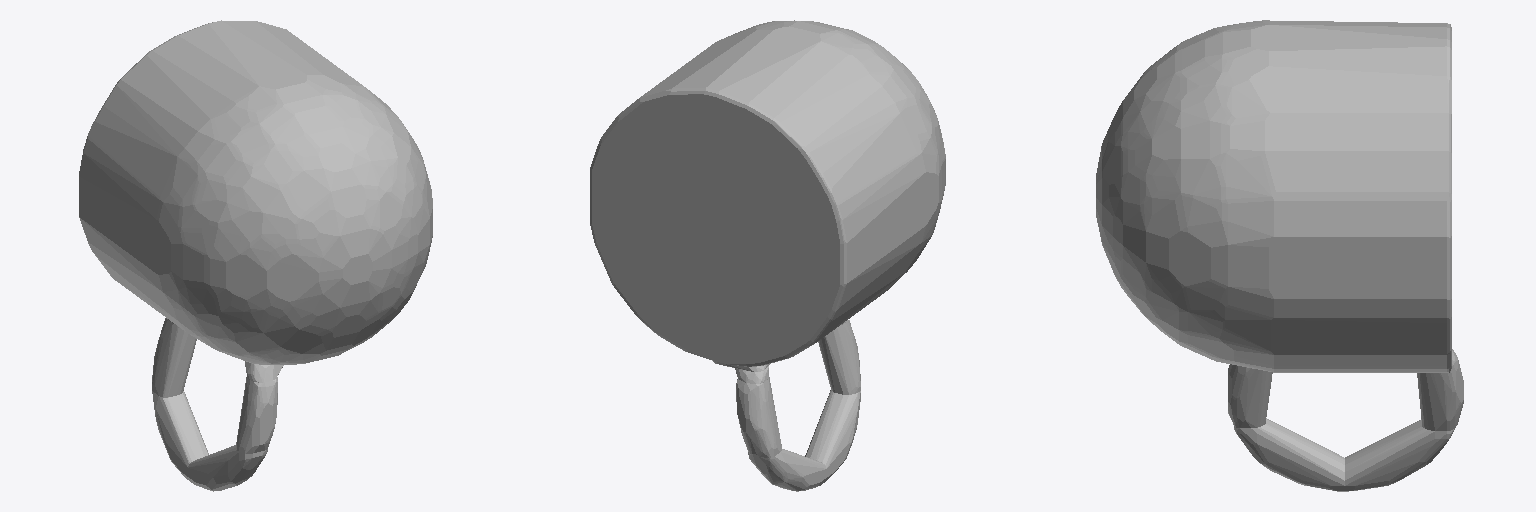
URDF robot description (root):
<robot name="root">
  <link name="link_coacd_convex_piece_0">
    <inertial>
      <origin xyz="0 0 0" rpy="0 0 0"/>
      <inertia ixx="9.13E-02" ixy="-3.37E-04" ixz="-9.77E-04" iyy="8.23E-02" iyz="-1.28E-02" izz="8.85E-02"/>
    </inertial>
    <visual>
      <origin xyz="0 0 0" rpy="0 0 0"/>
      <geometry>
        <mesh filename="coacd_convex_piece_0.obj" scale="1.0000E+00 1.0000E+00 1.0000E+00"/>
      </geometry>
      <material name="">
        <color rgba="7.50E-01 7.50E-01 7.50E-01 1"/>
      </material>
    </visual>
    <collision>
      <origin xyz="0 0 0" rpy="0 0 0"/>
      <geometry>
        <mesh filename="coacd_convex_piece_0.obj" scale="1.0000E+00 1.0000E+00 1.0000E+00"/>
      </geometry>
    </collision>
  </link>
  <link name="link_coacd_convex_piece_1">
    <inertial>
      <origin xyz="0 0 0" rpy="0 0 0"/>
      <inertia ixx="2.72E-06" ixy="-2.51E-06" ixz="-2.18E-05" iyy="7.24E-06" iyz="-9.60E-06" izz="1.07E-05"/>
    </inertial>
    <visual>
      <origin xyz="0 0 0" rpy="0 0 0"/>
      <geometry>
        <mesh filename="coacd_convex_piece_1.obj" scale="1.0000E+00 1.0000E+00 1.0000E+00"/>
      </geometry>
      <material name="">
        <color rgba="7.50E-01 7.50E-01 7.50E-01 1"/>
      </material>
    </visual>
    <collision>
      <origin xyz="0 0 0" rpy="0 0 0"/>
      <geometry>
        <mesh filename="coacd_convex_piece_1.obj" scale="1.0000E+00 1.0000E+00 1.0000E+00"/>
      </geometry>
    </collision>
  </link>
  <joint name="link_coacd_convex_piece_1_joint" type="fixed">
    <origin xyz="0 0 0" rpy="0 0 0"/>
    <parent link="link_coacd_convex_piece_0"/>
    <child link="link_coacd_convex_piece_1"/>
  </joint>
  <link name="link_coacd_convex_piece_2">
    <inertial>
      <origin xyz="0 0 0" rpy="0 0 0"/>
      <inertia ixx="8.81E-05" ixy="1.48E-05" ixz="-1.17E-05" iyy="-2.02E-06" iyz="5.97E-05" izz="9.73E-05"/>
    </inertial>
    <visual>
      <origin xyz="0 0 0" rpy="0 0 0"/>
      <geometry>
        <mesh filename="coacd_convex_piece_2.obj" scale="1.0000E+00 1.0000E+00 1.0000E+00"/>
      </geometry>
      <material name="">
        <color rgba="7.50E-01 7.50E-01 7.50E-01 1"/>
      </material>
    </visual>
    <collision>
      <origin xyz="0 0 0" rpy="0 0 0"/>
      <geometry>
        <mesh filename="coacd_convex_piece_2.obj" scale="1.0000E+00 1.0000E+00 1.0000E+00"/>
      </geometry>
    </collision>
  </link>
  <joint name="link_coacd_convex_piece_2_joint" type="fixed">
    <origin xyz="0 0 0" rpy="0 0 0"/>
    <parent link="link_coacd_convex_piece_1"/>
    <child link="link_coacd_convex_piece_2"/>
  </joint>
  <link name="link_coacd_convex_piece_3">
    <inertial>
      <origin xyz="0 0 0" rpy="0 0 0"/>
      <inertia ixx="6.71E-05" ixy="1.58E-05" ixz="-1.04E-05" iyy="6.25E-06" iyz="3.85E-05" izz="6.91E-05"/>
    </inertial>
    <visual>
      <origin xyz="0 0 0" rpy="0 0 0"/>
      <geometry>
        <mesh filename="coacd_convex_piece_3.obj" scale="1.0000E+00 1.0000E+00 1.0000E+00"/>
      </geometry>
      <material name="">
        <color rgba="7.50E-01 7.50E-01 7.50E-01 1"/>
      </material>
    </visual>
    <collision>
      <origin xyz="0 0 0" rpy="0 0 0"/>
      <geometry>
        <mesh filename="coacd_convex_piece_3.obj" scale="1.0000E+00 1.0000E+00 1.0000E+00"/>
      </geometry>
    </collision>
  </link>
  <joint name="link_coacd_convex_piece_3_joint" type="fixed">
    <origin xyz="0 0 0" rpy="0 0 0"/>
    <parent link="link_coacd_convex_piece_2"/>
    <child link="link_coacd_convex_piece_3"/>
  </joint>
  <link name="link_coacd_convex_piece_4">
    <inertial>
      <origin xyz="0 0 0" rpy="0 0 0"/>
      <inertia ixx="9.25E-04" ixy="1.85E-04" ixz="-1.73E-04" iyy="3.71E-04" iyz="5.33E-04" izz="6.72E-04"/>
    </inertial>
    <visual>
      <origin xyz="0 0 0" rpy="0 0 0"/>
      <geometry>
        <mesh filename="coacd_convex_piece_4.obj" scale="1.0000E+00 1.0000E+00 1.0000E+00"/>
      </geometry>
      <material name="">
        <color rgba="7.50E-01 7.50E-01 7.50E-01 1"/>
      </material>
    </visual>
    <collision>
      <origin xyz="0 0 0" rpy="0 0 0"/>
      <geometry>
        <mesh filename="coacd_convex_piece_4.obj" scale="1.0000E+00 1.0000E+00 1.0000E+00"/>
      </geometry>
    </collision>
  </link>
  <joint name="link_coacd_convex_piece_4_joint" type="fixed">
    <origin xyz="0 0 0" rpy="0 0 0"/>
    <parent link="link_coacd_convex_piece_3"/>
    <child link="link_coacd_convex_piece_4"/>
  </joint>
  <link name="link_coacd_convex_piece_5">
    <inertial>
      <origin xyz="0 0 0" rpy="0 0 0"/>
      <inertia ixx="1.64E-03" ixy="2.15E-04" ixz="-4.25E-04" iyy="1.35E-03" iyz="7.27E-04" izz="5.36E-04"/>
    </inertial>
    <visual>
      <origin xyz="0 0 0" rpy="0 0 0"/>
      <geometry>
        <mesh filename="coacd_convex_piece_5.obj" scale="1.0000E+00 1.0000E+00 1.0000E+00"/>
      </geometry>
      <material name="">
        <color rgba="7.50E-01 7.50E-01 7.50E-01 1"/>
      </material>
    </visual>
    <collision>
      <origin xyz="0 0 0" rpy="0 0 0"/>
      <geometry>
        <mesh filename="coacd_convex_piece_5.obj" scale="1.0000E+00 1.0000E+00 1.0000E+00"/>
      </geometry>
    </collision>
  </link>
  <joint name="link_coacd_convex_piece_5_joint" type="fixed">
    <origin xyz="0 0 0" rpy="0 0 0"/>
    <parent link="link_coacd_convex_piece_4"/>
    <child link="link_coacd_convex_piece_5"/>
  </joint>
  <link name="link_coacd_convex_piece_6">
    <inertial>
      <origin xyz="0 0 0" rpy="0 0 0"/>
      <inertia ixx="2.93E-04" ixy="-3.16E-05" ixz="-1.54E-04" iyy="3.23E-04" iyz="-1.06E-04" izz="7.40E-05"/>
    </inertial>
    <visual>
      <origin xyz="0 0 0" rpy="0 0 0"/>
      <geometry>
        <mesh filename="coacd_convex_piece_6.obj" scale="1.0000E+00 1.0000E+00 1.0000E+00"/>
      </geometry>
      <material name="">
        <color rgba="7.50E-01 7.50E-01 7.50E-01 1"/>
      </material>
    </visual>
    <collision>
      <origin xyz="0 0 0" rpy="0 0 0"/>
      <geometry>
        <mesh filename="coacd_convex_piece_6.obj" scale="1.0000E+00 1.0000E+00 1.0000E+00"/>
      </geometry>
    </collision>
  </link>
  <joint name="link_coacd_convex_piece_6_joint" type="fixed">
    <origin xyz="0 0 0" rpy="0 0 0"/>
    <parent link="link_coacd_convex_piece_5"/>
    <child link="link_coacd_convex_piece_6"/>
  </joint>
  <link name="link_coacd_convex_piece_7">
    <inertial>
      <origin xyz="0 0 0" rpy="0 0 0"/>
      <inertia ixx="1.31E-03" ixy="2.49E-05" ixz="-4.44E-04" iyy="1.41E-03" iyz="7.27E-05" izz="1.54E-04"/>
    </inertial>
    <visual>
      <origin xyz="0 0 0" rpy="0 0 0"/>
      <geometry>
        <mesh filename="coacd_convex_piece_7.obj" scale="1.0000E+00 1.0000E+00 1.0000E+00"/>
      </geometry>
      <material name="">
        <color rgba="7.50E-01 7.50E-01 7.50E-01 1"/>
      </material>
    </visual>
    <collision>
      <origin xyz="0 0 0" rpy="0 0 0"/>
      <geometry>
        <mesh filename="coacd_convex_piece_7.obj" scale="1.0000E+00 1.0000E+00 1.0000E+00"/>
      </geometry>
    </collision>
  </link>
  <joint name="link_coacd_convex_piece_7_joint" type="fixed">
    <origin xyz="0 0 0" rpy="0 0 0"/>
    <parent link="link_coacd_convex_piece_6"/>
    <child link="link_coacd_convex_piece_7"/>
  </joint>
</robot>

--- Render facts (derived) ---
Views: 3 orthographic renders of the robot side by side, from view 1: azimuth 30°, elevation 25°; view 2: azimuth 150°, elevation 25°; view 3: azimuth 270°, elevation 25°.
Model root with 8 links and 7 joints (7 fixed), rooted at link_coacd_convex_piece_0, posed every joint at zero.
Links seen in each view (by area): view 1: link_coacd_convex_piece_0, link_coacd_convex_piece_5, link_coacd_convex_piece_6, link_coacd_convex_piece_4, link_coacd_convex_piece_7, link_coacd_convex_piece_1; view 2: link_coacd_convex_piece_0, link_coacd_convex_piece_7, link_coacd_convex_piece_4, link_coacd_convex_piece_6, link_coacd_convex_piece_5; view 3: link_coacd_convex_piece_0, link_coacd_convex_piece_7, link_coacd_convex_piece_5, link_coacd_convex_piece_4, link_coacd_convex_piece_6.
Link boxes in pixels (x1,y1,x2,y2): link_coacd_convex_piece_0: (79, 20, 432, 364); link_coacd_convex_piece_5: (152, 391, 208, 480); link_coacd_convex_piece_6: (236, 377, 277, 453); link_coacd_convex_piece_4: (152, 318, 196, 397); link_coacd_convex_piece_7: (188, 445, 267, 491); link_coacd_convex_piece_1: (245, 361, 283, 382); link_coacd_convex_piece_0: (590, 20, 945, 366); link_coacd_convex_piece_7: (805, 390, 860, 482); link_coacd_convex_piece_4: (736, 377, 781, 457); link_coacd_convex_piece_6: (818, 320, 860, 394); link_coacd_convex_piece_5: (748, 449, 826, 491); link_coacd_convex_piece_0: (1096, 20, 1451, 372); link_coacd_convex_piece_7: (1234, 418, 1344, 491); link_coacd_convex_piece_5: (1345, 420, 1454, 491); link_coacd_convex_piece_4: (1417, 349, 1463, 430); link_coacd_convex_piece_6: (1228, 364, 1272, 427).
Bounding box of the posed robot: 1.08 × 1.15 × 1.65 m (x, y, z).
Meshes: 8 distinct files referenced, 8 mesh visuals loaded (8 OBJ).
